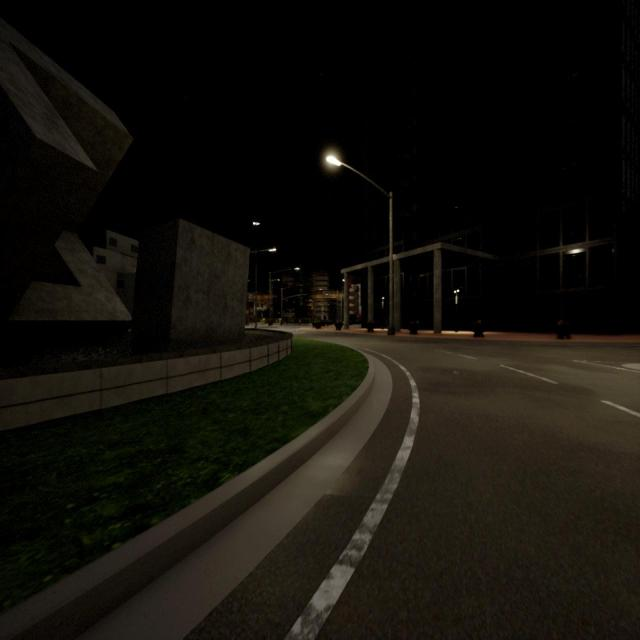traffic_light: (328, 303, 330, 306)
